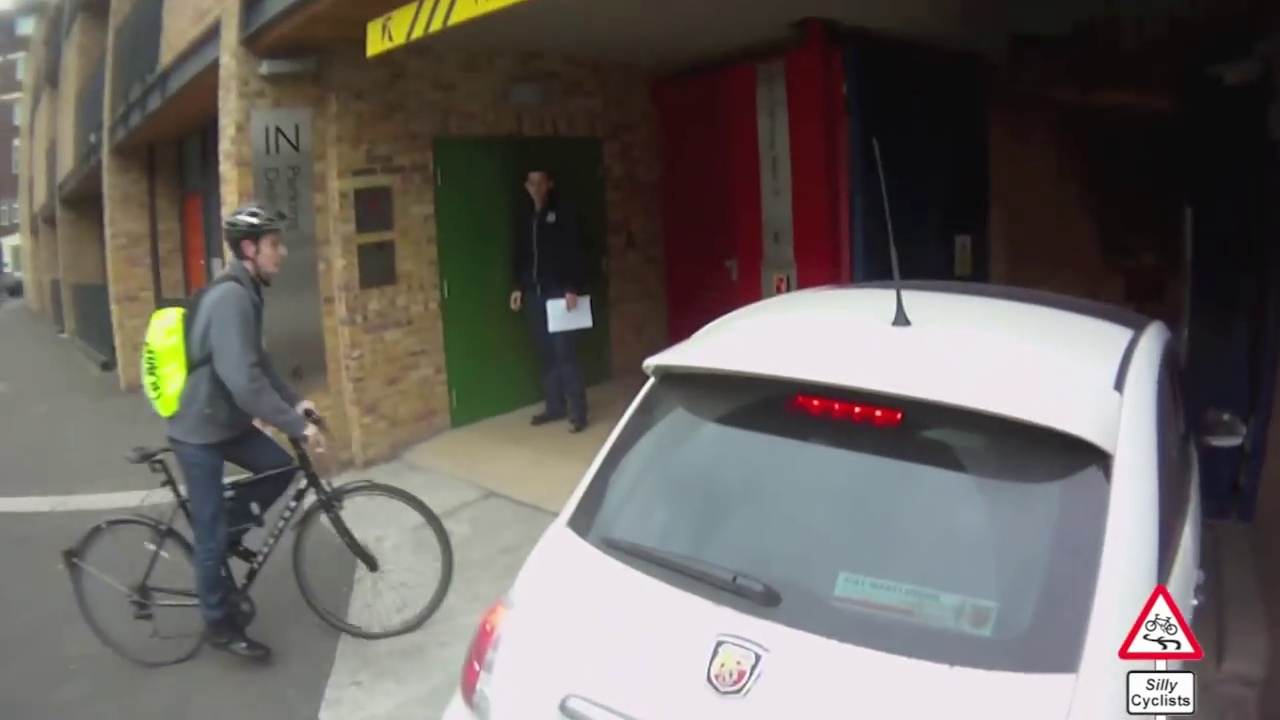cyclist_side: (53, 191, 461, 657)
